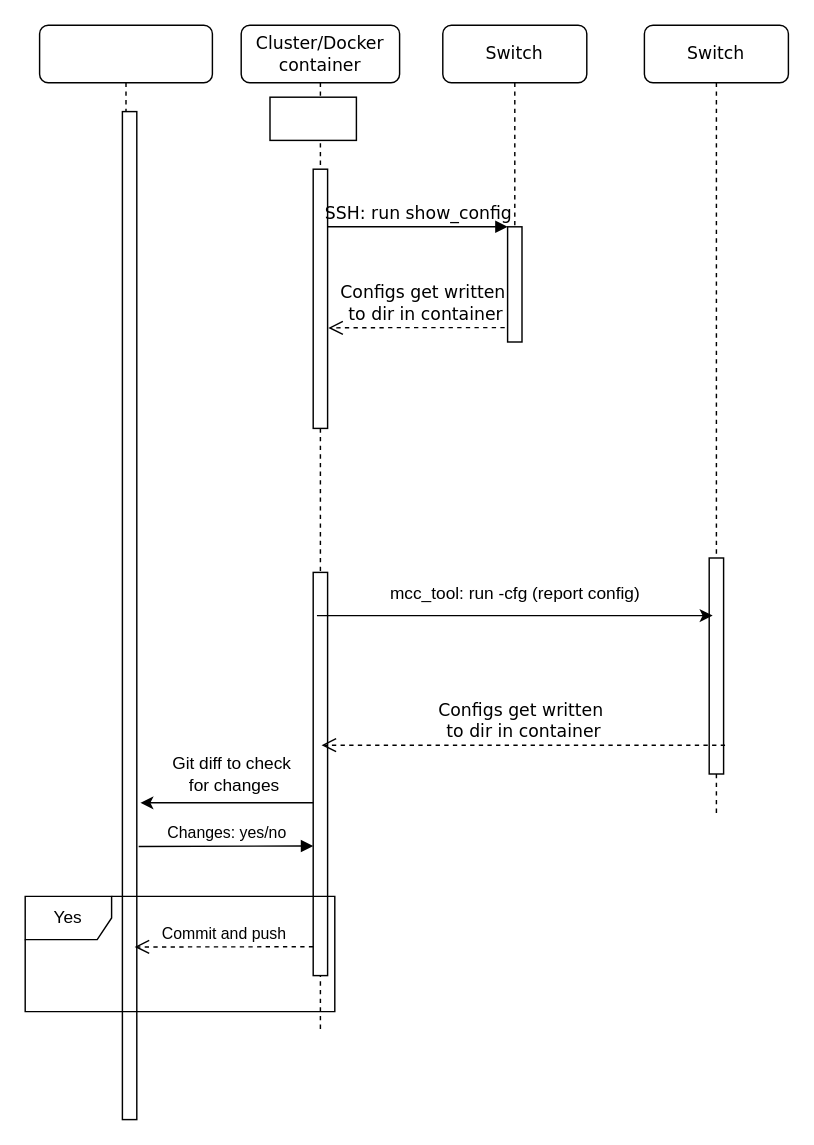
The diagram is 814 pixels wide and 1145 high, and some of its shapes have lost their labels. Here are the shapes that lost their labels. From the top down, the box of each, then its label:
(269, 96, 356, 140): every 6h
(38, 24, 212, 1120): Git
